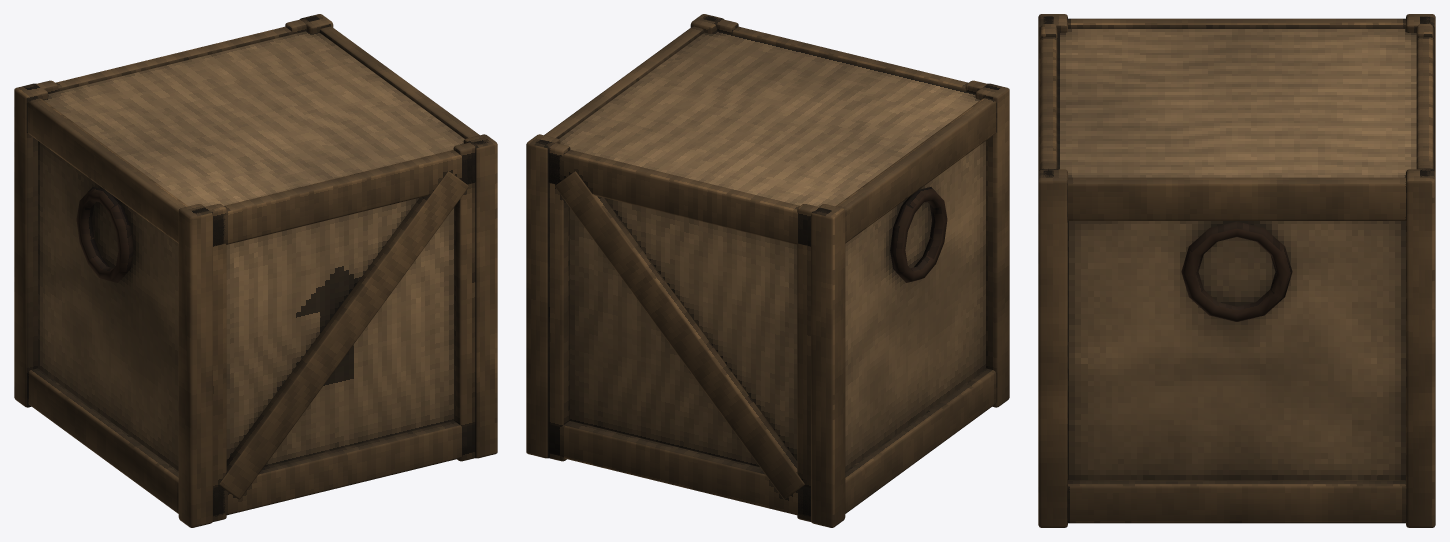
Rendered from crate.glb.
The picture shows the model from 3 angles, left to right: view 1: azimuth 30°, elevation 25°; view 2: azimuth 150°, elevation 25°; view 3: azimuth 270°, elevation 25°; orthographic projection. The views are drawn at different scales.
Visible parts, largest first — view 1: crate; view 2: crate; view 3: crate.
Boxes of the visible parts, x1,y1,x2,y2 form: crate: [14, 14, 497, 527]; crate: [526, 14, 1009, 527]; crate: [1038, 14, 1435, 527].
Bounding box in the file's own units: 0.9446 × 0.9 × 0.93.
Materials: 1 (1 with a texture image).
